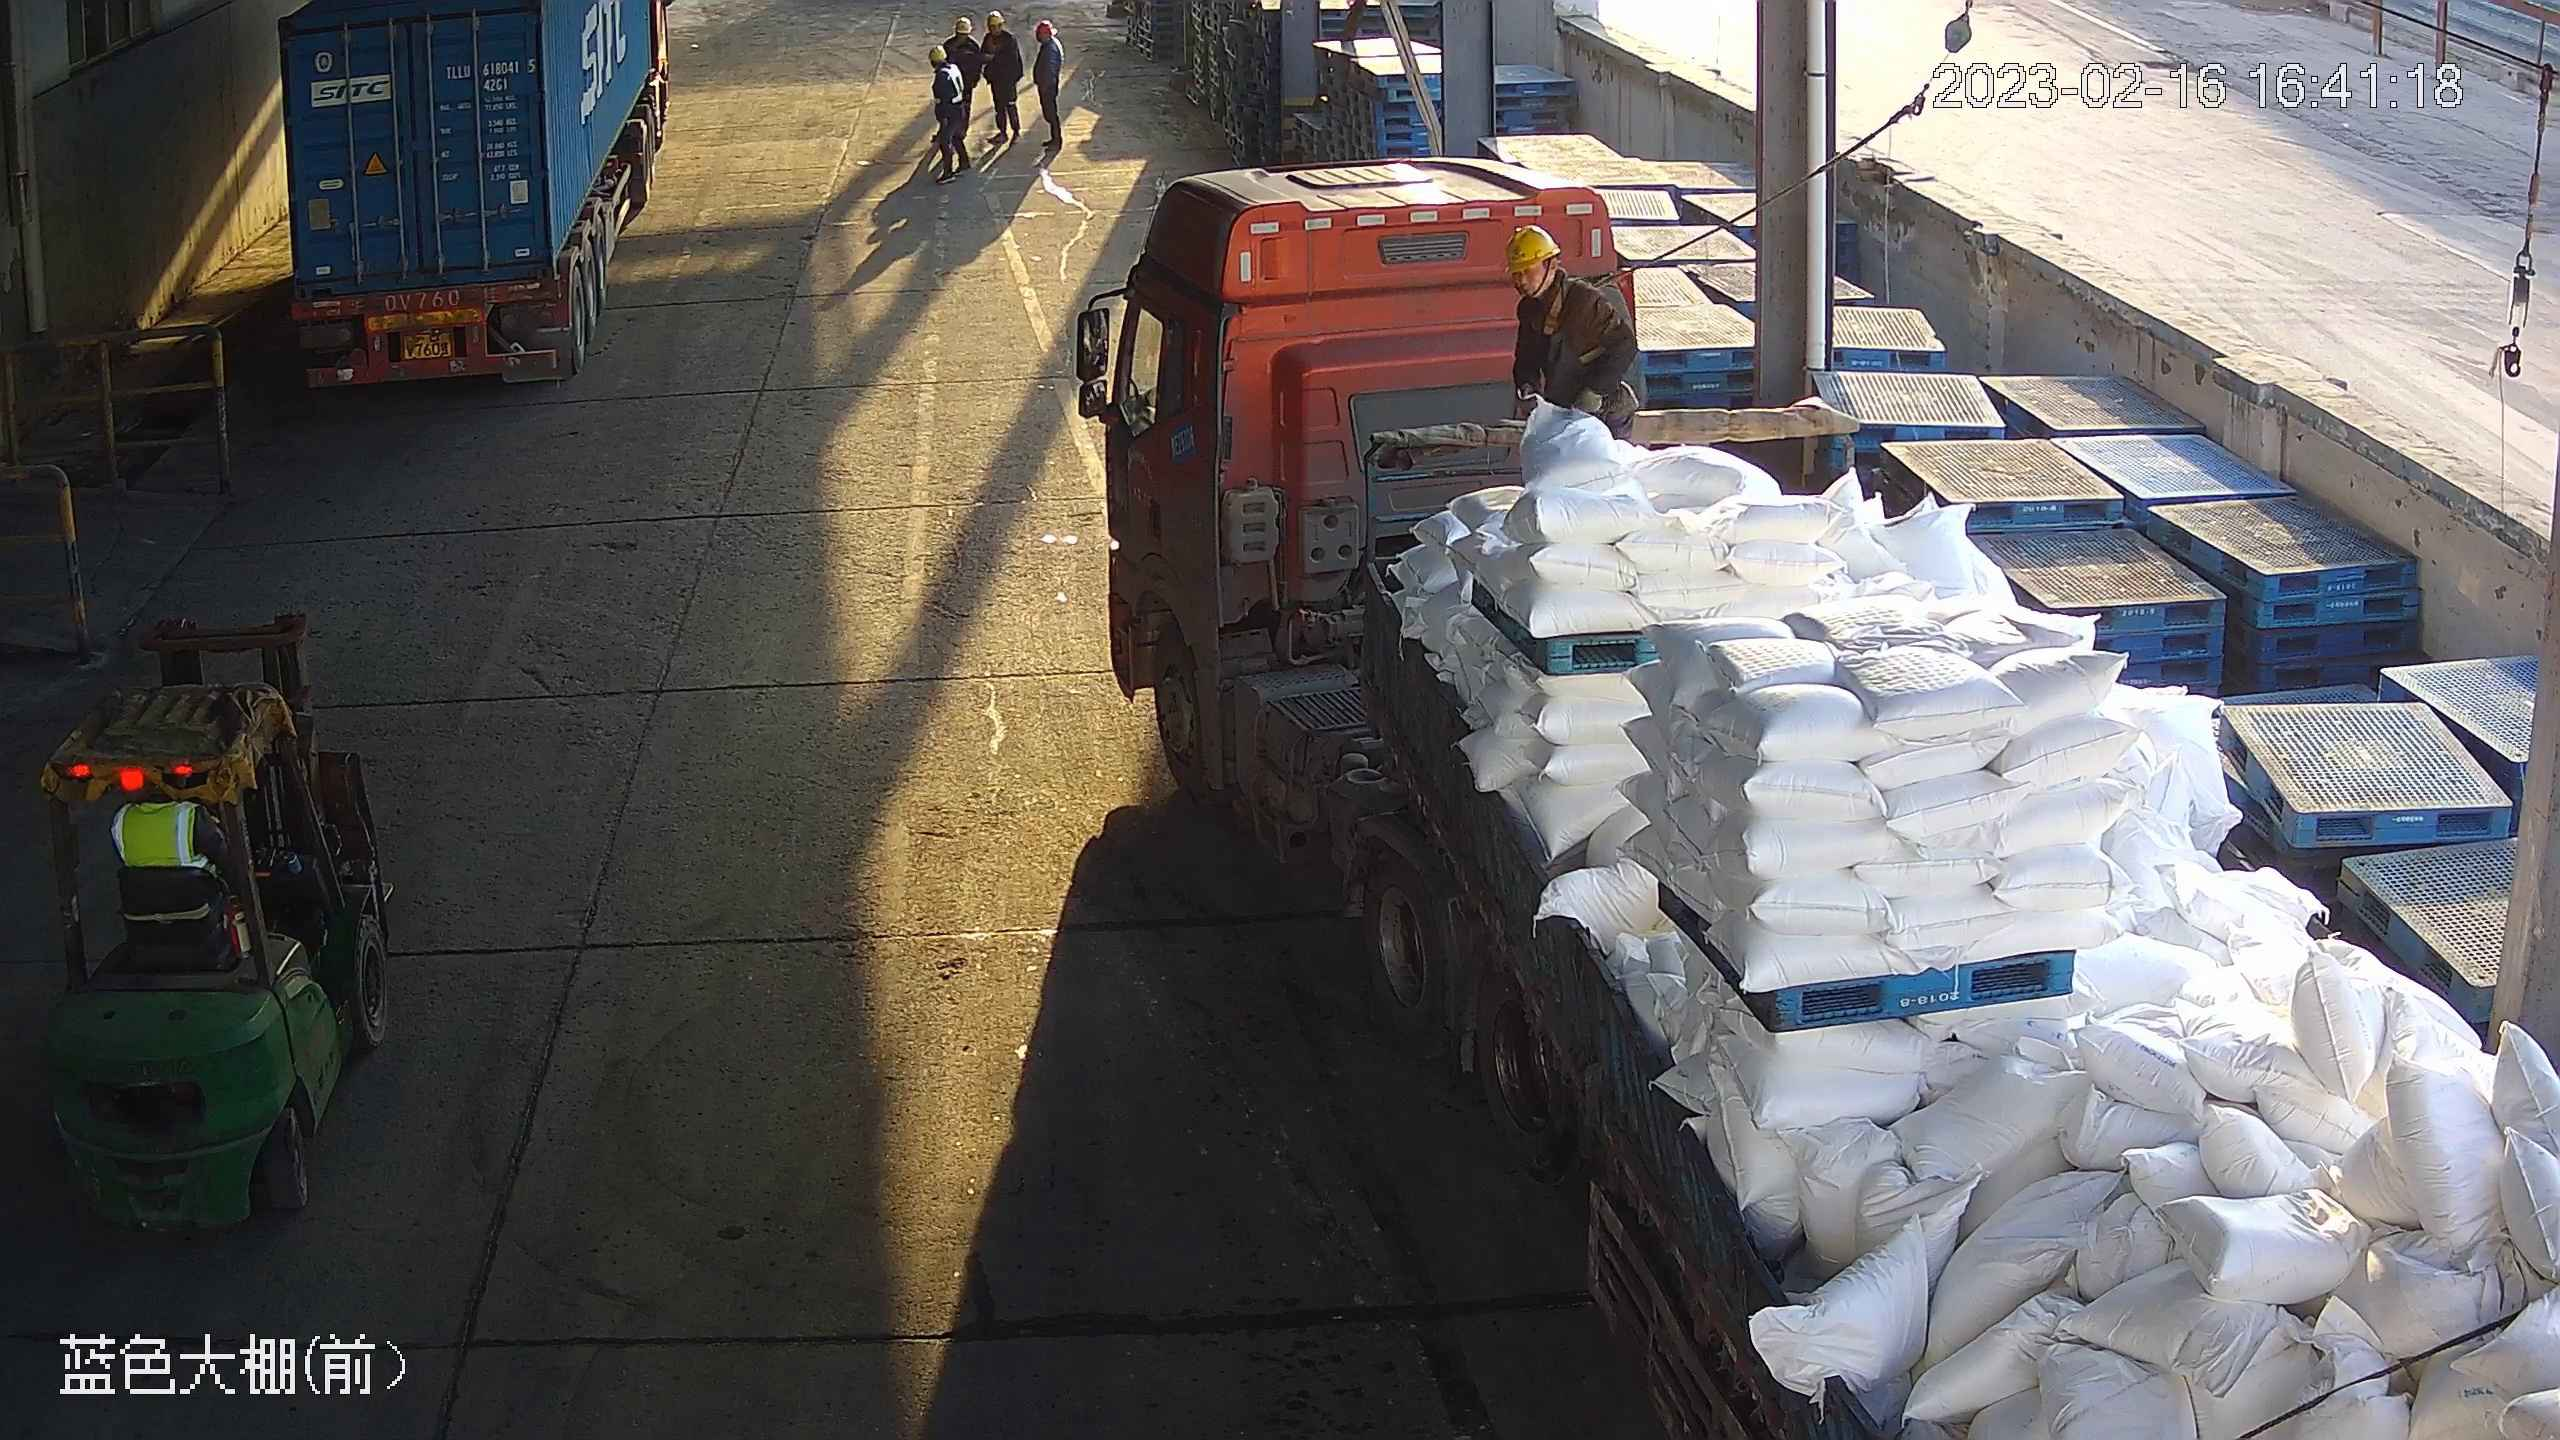belt: (1546, 277, 1609, 363)
head: (1506, 223, 1628, 365), (982, 9, 1018, 59), (928, 41, 960, 95), (1034, 18, 1064, 66), (946, 17, 977, 54)
helmet: (1506, 225, 1561, 274), (954, 17, 972, 33), (1036, 20, 1054, 35), (928, 46, 946, 60), (987, 11, 1003, 25)
people: (927, 44, 972, 184), (980, 7, 1024, 144), (1034, 16, 1065, 153), (945, 16, 979, 138)
truck: (1073, 156, 2560, 1440), (274, 1, 672, 396)
